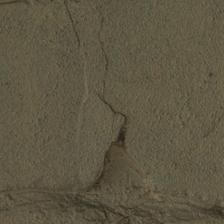Crack: (40, 77, 181, 133), (0, 0, 99, 70)
